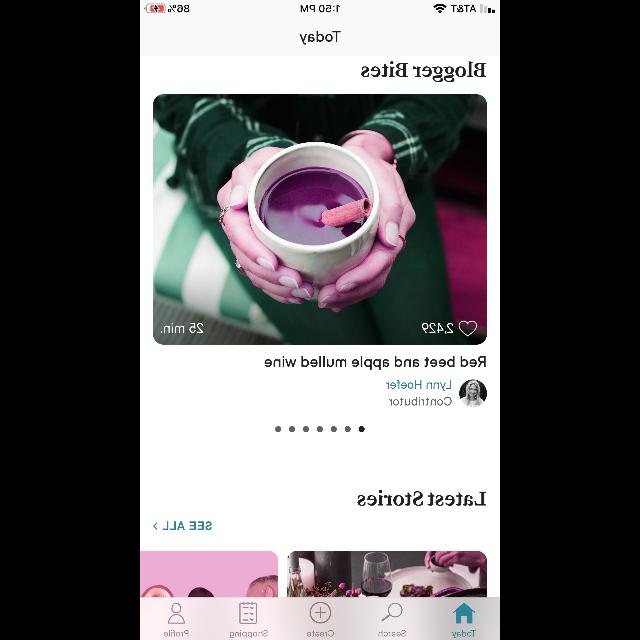icon: (310, 602, 330, 624), (453, 603, 475, 623), (168, 602, 186, 624), (382, 603, 402, 621), (240, 602, 256, 624), (458, 322, 476, 336), (153, 522, 157, 530)
image: (154, 95, 486, 345), (287, 551, 487, 597), (140, 551, 278, 597), (459, 379, 486, 406)
pageindicator: (275, 426, 365, 432)
text: (264, 356, 486, 369), (360, 62, 486, 82), (358, 490, 487, 506), (386, 381, 450, 392), (388, 396, 452, 406), (300, 31, 340, 45), (163, 522, 211, 530), (161, 323, 203, 332), (230, 630, 268, 638), (422, 324, 452, 334), (452, 630, 476, 638), (378, 630, 406, 636), (307, 630, 333, 636), (164, 630, 188, 636)
uppertaskbar: (140, 0, 500, 14)
